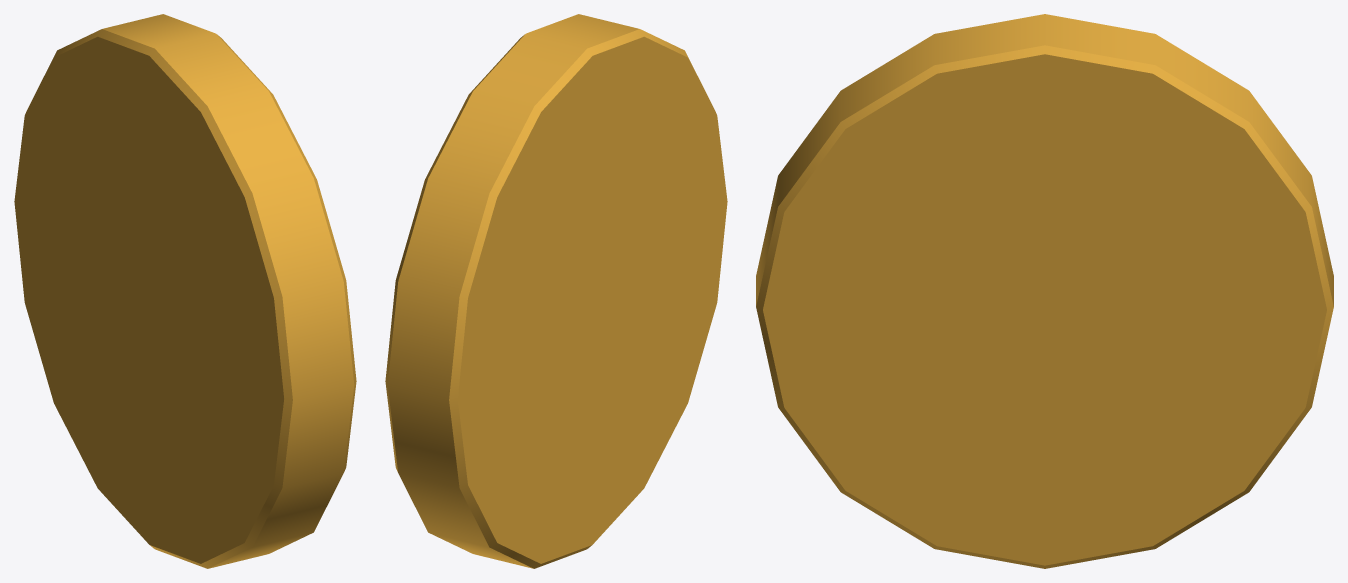
Rendered from coin.fbx.
3 renders of one model, left to right at view 1: azimuth 30°, elevation 25°; view 2: azimuth 150°, elevation 25°; view 3: azimuth 270°, elevation 25°, orthographic. The views are drawn at different scales.
Parts seen in each view (by area): view 1: Circle; view 2: Circle; view 3: Circle.
Boxes of the visible parts, x1=… form: Circle: x1=14, y1=14, x2=356, y2=568; Circle: x1=385, y1=14, x2=727, y2=568; Circle: x1=756, y1=14, x2=1333, y2=568.
Size of the model in its own units: 30.24 by 200 by 200.
